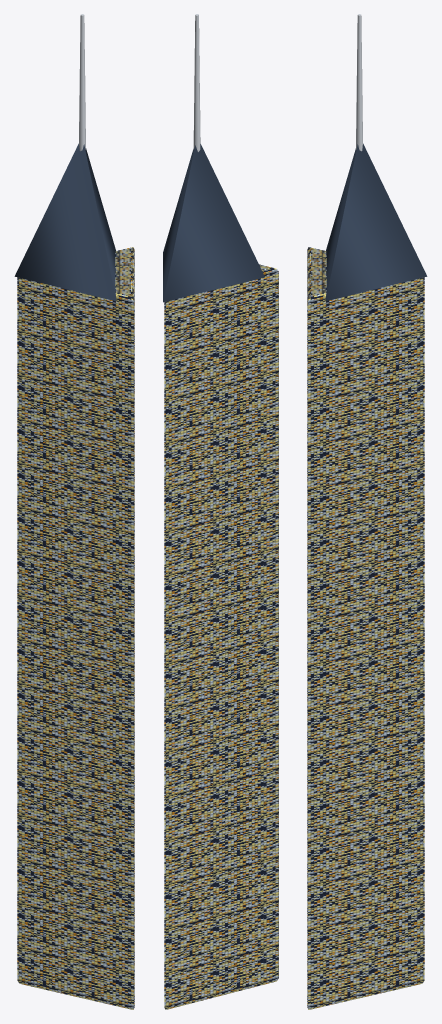
The model's file is skyline-v2-antenna.glb.
The picture shows the model from 3 angles, left to right: view 1: azimuth 90°, elevation 25°; view 2: azimuth 150°, elevation 25°; view 3: azimuth 270°, elevation 25°; orthographic projection.
Size of the model in its own units: 2.64 by 22.05 by 2.47.
3 materials, 1 textured.
